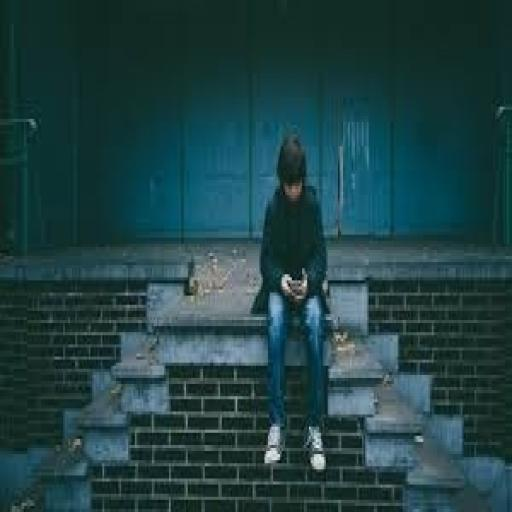texting: (251, 128, 334, 475)
